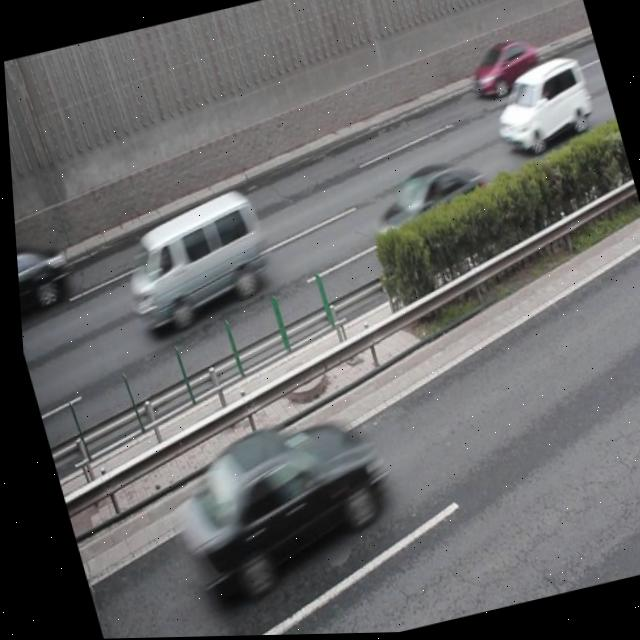car: (154, 405, 395, 601), (362, 152, 495, 265), (478, 55, 597, 163), (462, 34, 544, 105), (12, 235, 73, 317)
truck: (107, 186, 277, 334)
